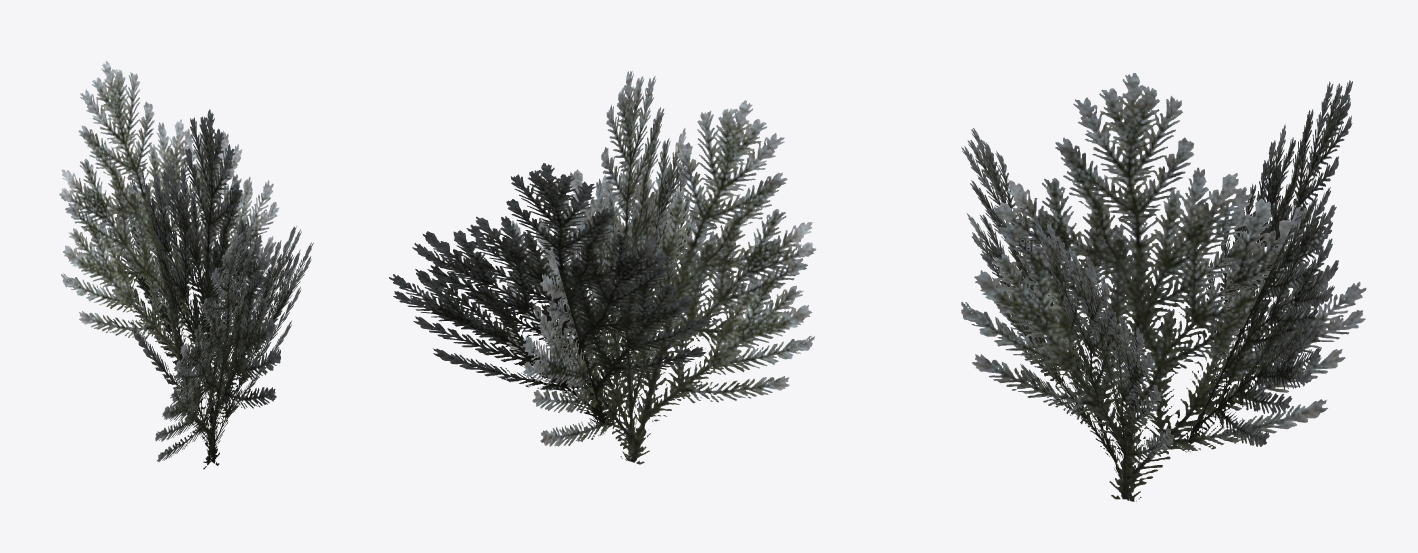
File: SC_bingfengyiji_03.FBX
The picture shows the model from 3 angles, left to right: view 1: azimuth 30°, elevation 25°; view 2: azimuth 150°, elevation 25°; view 3: azimuth 270°, elevation 25°; orthographic projection. The views are drawn at different scales.
Parts seen in each view (by area): view 1: SC_bingfengyiji_03; view 2: SC_bingfengyiji_03; view 3: SC_bingfengyiji_03.
Part boxes in pixels (bbox=[...]): SC_bingfengyiji_03: bbox=[59, 61, 313, 469]; SC_bingfengyiji_03: bbox=[389, 71, 816, 464]; SC_bingfengyiji_03: bbox=[961, 73, 1366, 501].
Size of the model in its own units: 108 by 139 by 132.
